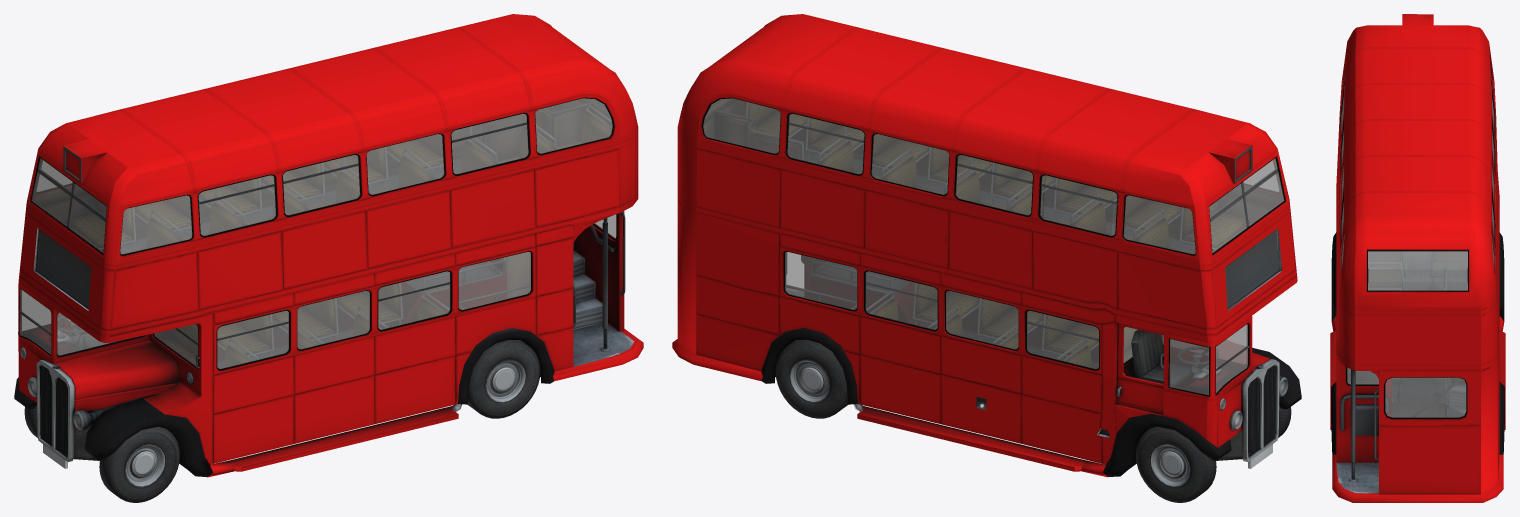
Rendered from Old Routmaster City Bus_fbx.fbx.
3 renders of one model, left to right at view 1: azimuth 30°, elevation 25°; view 2: azimuth 150°, elevation 25°; view 3: azimuth 270°, elevation 25°, orthographic. The views are drawn at different scales.
Parts seen in each view (by area): view 1: Bus.011, Circle.007, Circle.002; view 2: Bus.011, Circle.008, Circle; view 3: Bus.011.
Part boxes in pixels (left/top/right/bottom): Bus.011: left=14, top=14, right=643, bottom=477; Circle.007: left=467, top=340, right=540, bottom=418; Circle.002: left=99, top=426, right=179, bottom=502; Bus.011: left=672, top=14, right=1301, bottom=477; Circle.008: left=775, top=340, right=848, bottom=418; Circle: left=1136, top=426, right=1216, bottom=502; Bus.011: left=1330, top=14, right=1505, bottom=502.
Bounding box in the file's own units: 2.3 × 1.3 × 0.7249.
Materials: 5 (3 with a texture image).
